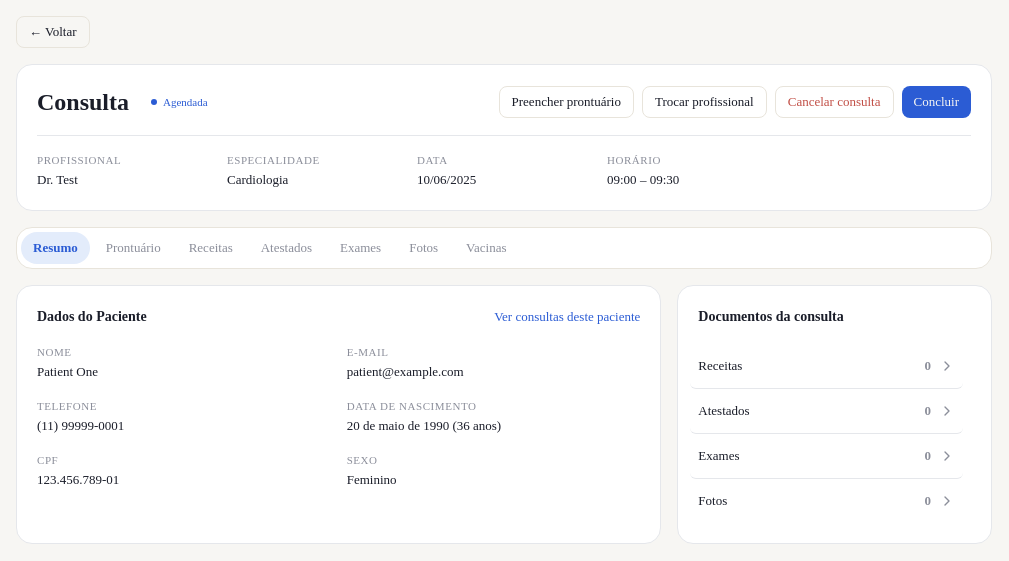
Test: AppointmentDetailPage (integration) › ADMIN sees atestados tab and can open the section
Click the tab with test id "tab-atestados" at (286, 248), box [249,232,324,264]
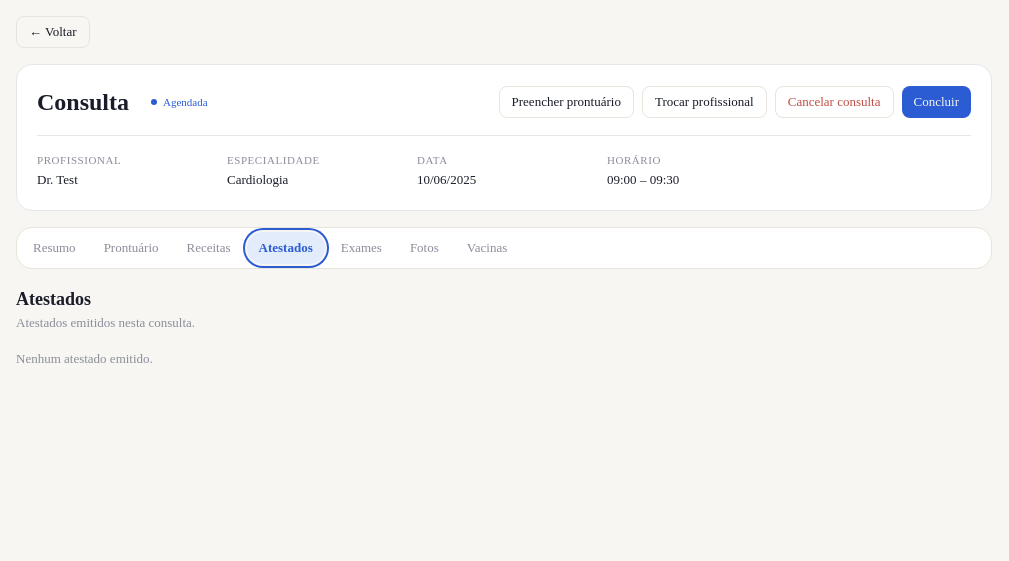
Result: the element with test id "atestado-section" is shown at [16,289,195,366]
